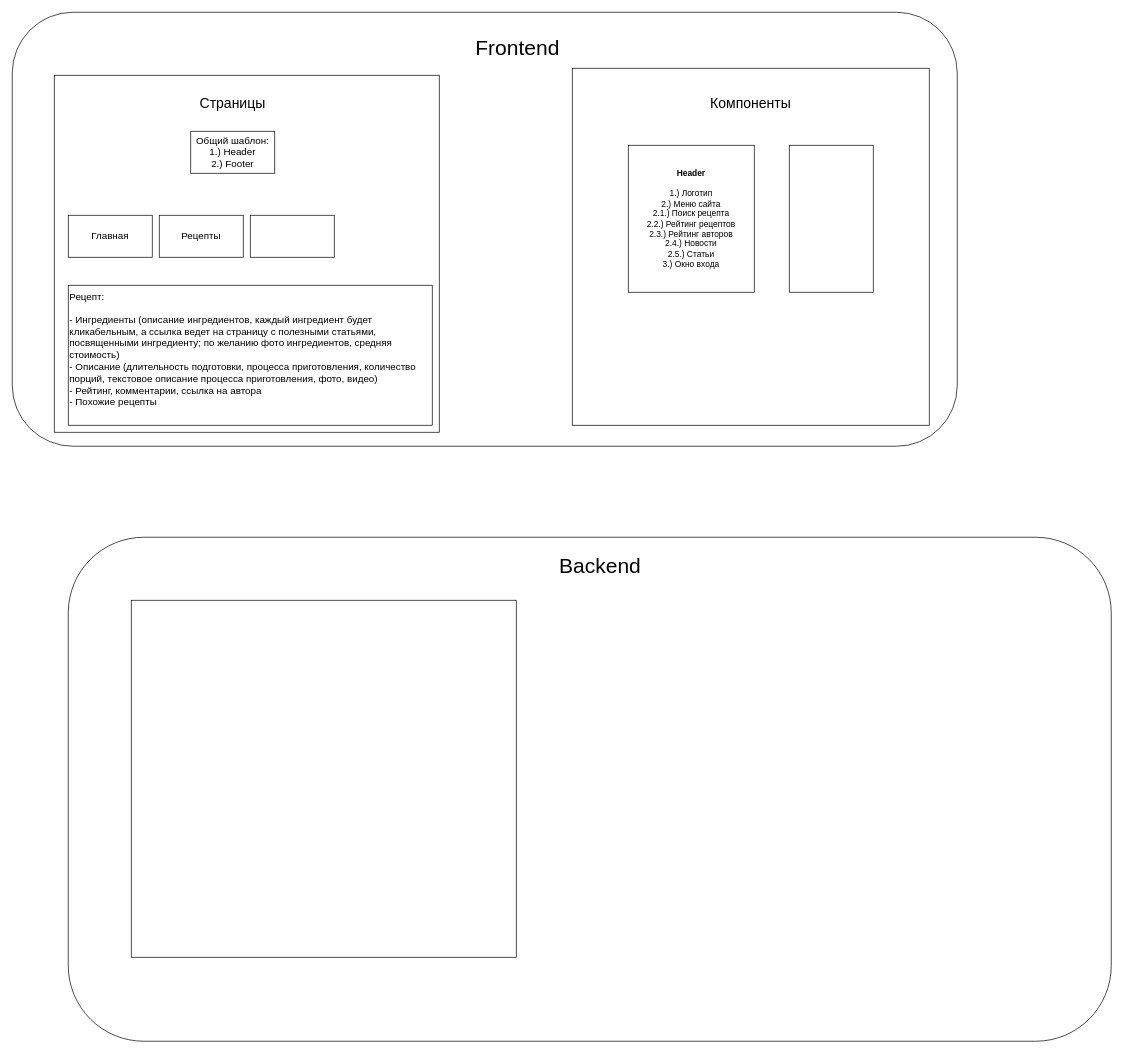
The diagram is 1124 pixels wide and 1054 high, and some of its shapes have lost their labels. Here are the shapes that lost their labels. From the top down, the centre of each, then its label:
At (831,218): "Footer".
At (323,778): "Базы данных".
